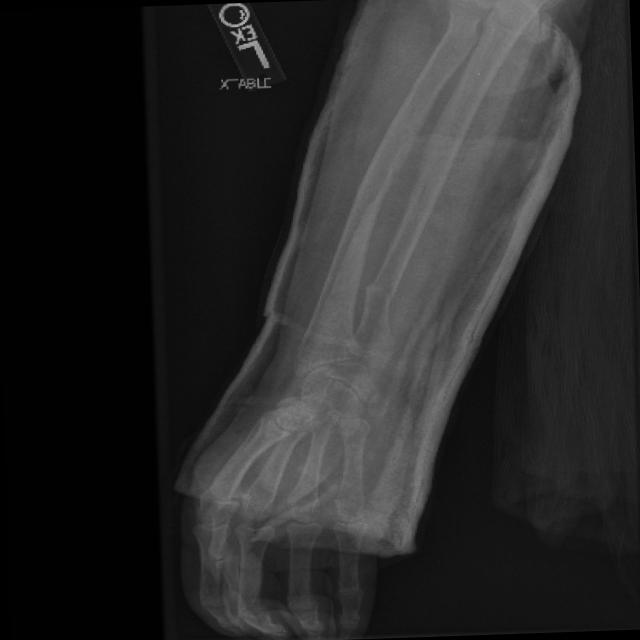forearm fracture: (330, 250, 413, 331)
